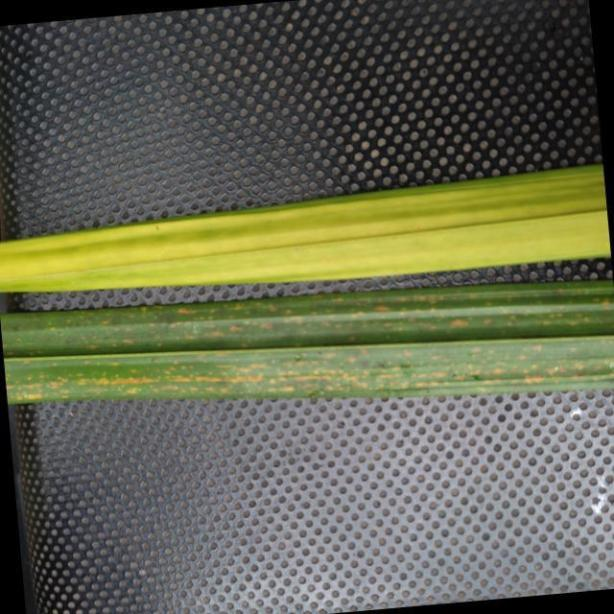nitrogen: (0, 164, 614, 296)
